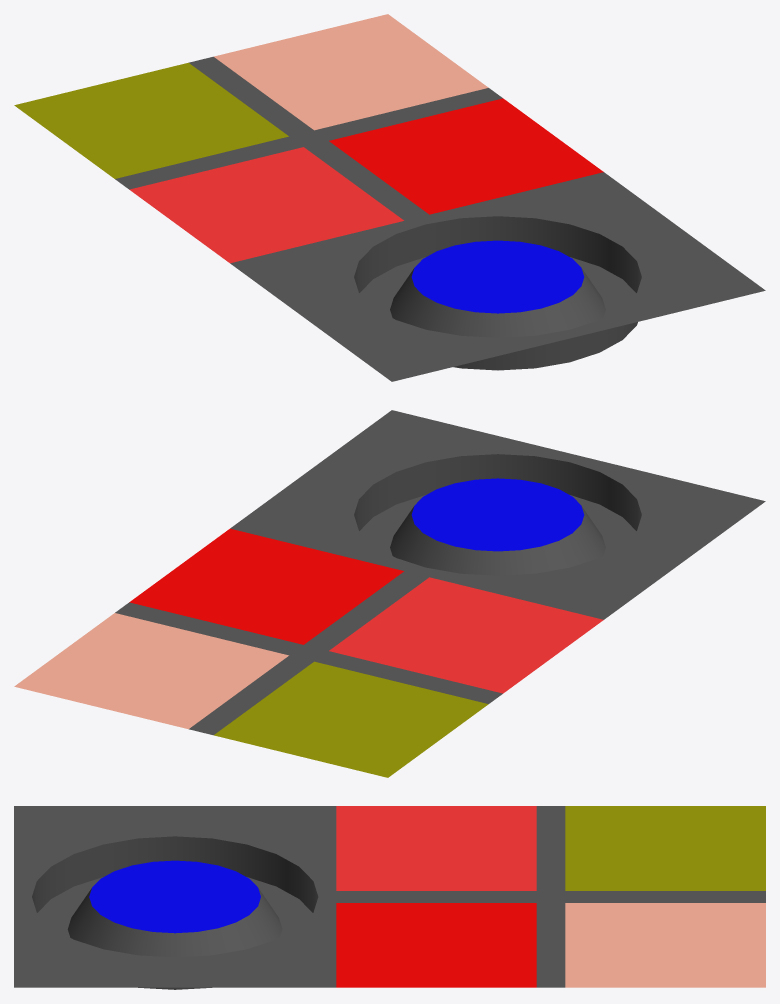
Rendered from Escenario.fbx.
3 renders of one model, top to bottom at view 1: azimuth 30°, elevation 25°; view 2: azimuth 150°, elevation 25°; view 3: azimuth 270°, elevation 25°, orthographic.
Visible parts, largest first — view 1: Model; view 2: Model; view 3: Model.
Part boxes in pixels (bbox=[...]): Model: bbox=[14, 14, 765, 381]; Model: bbox=[14, 410, 765, 777]; Model: bbox=[14, 806, 765, 989].
Size of the model in its own units: 6000 by 500 by 10500.
